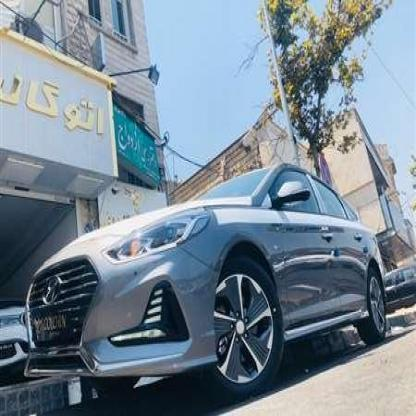Car: (22, 183, 385, 397), (0, 290, 46, 372)
